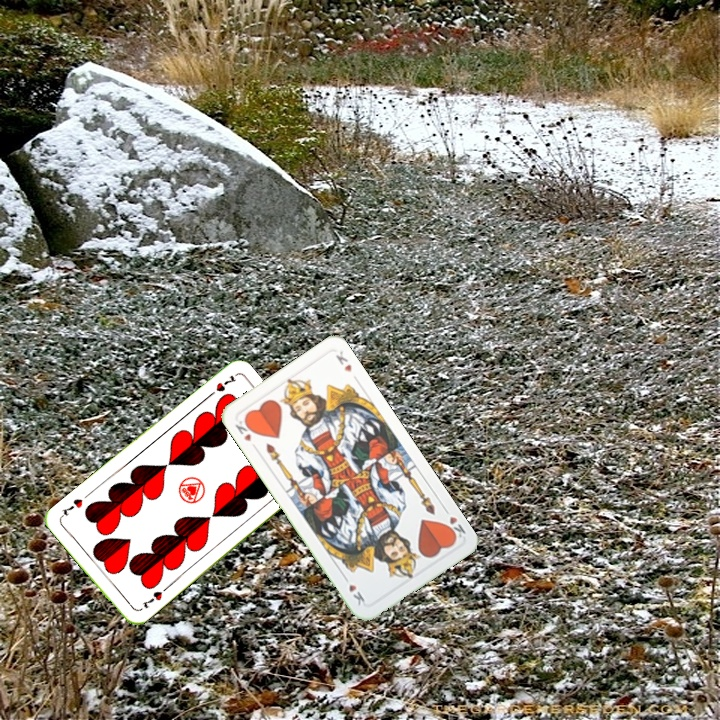H7: (204, 371, 239, 400), (137, 583, 170, 611)
HK: (439, 503, 468, 543), (231, 415, 258, 444)
